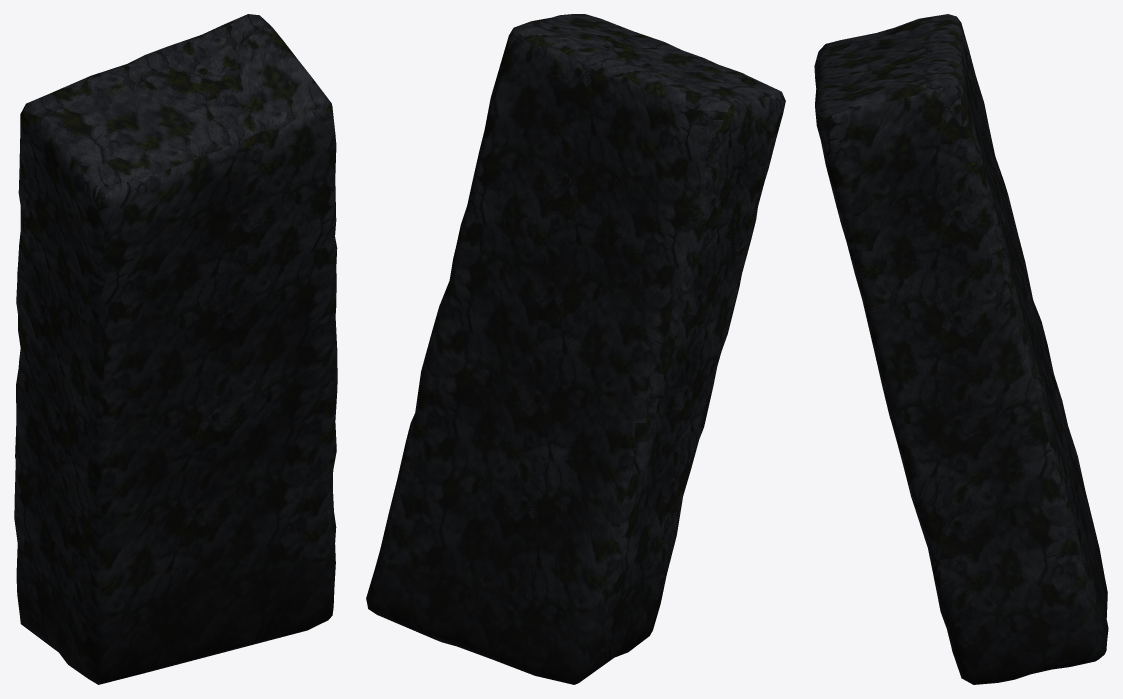
File: shadow_slab.glb
The picture shows the model from 3 angles, left to right: view 1: azimuth 30°, elevation 25°; view 2: azimuth 150°, elevation 25°; view 3: azimuth 270°, elevation 25°; orthographic projection. The views are drawn at different scales.
Visible parts, largest first — view 1: shadow_slab_basalt; view 2: shadow_slab_basalt; view 3: shadow_slab_basalt.
Part boxes in pixels (x1,y1,x2,y2): shadow_slab_basalt: [14, 14, 337, 684]; shadow_slab_basalt: [366, 14, 785, 684]; shadow_slab_basalt: [814, 14, 1108, 684].
Bounding box in the file's own units: 2.32 × 4.37 × 2.05.
1 material, 1 textured.
